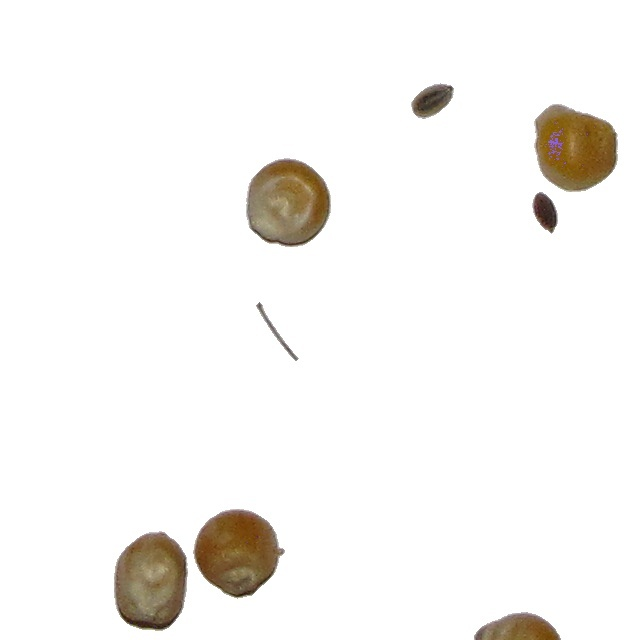buckwheat: (410, 82, 455, 120), (531, 191, 559, 235)
dill: (255, 301, 300, 362)
mais: (192, 508, 286, 600), (245, 157, 332, 248), (113, 530, 189, 632), (533, 103, 619, 193), (473, 611, 565, 640)
